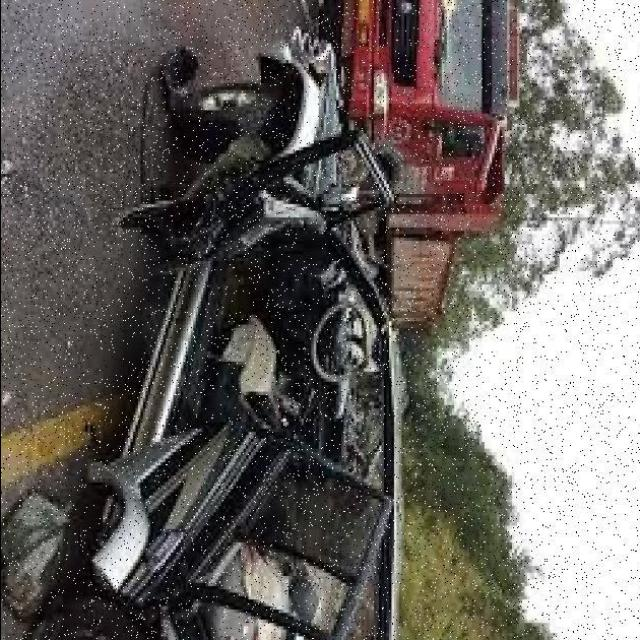accident: (38, 22, 414, 640)
